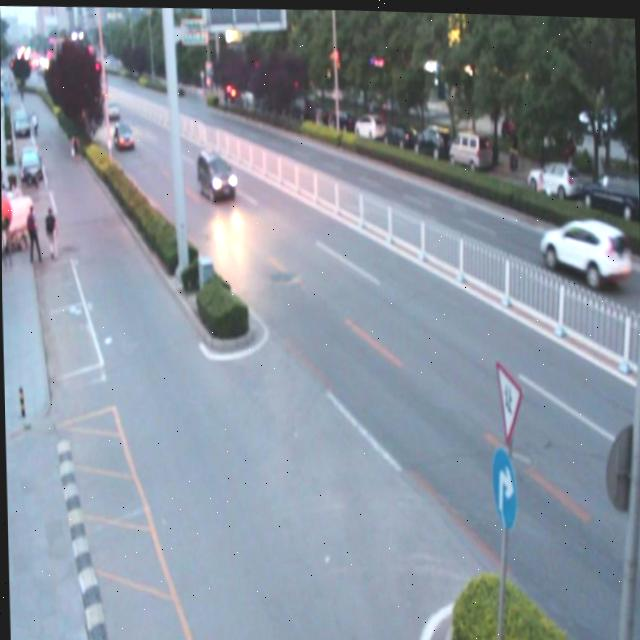car: (537, 209, 627, 285), (195, 148, 235, 201)
